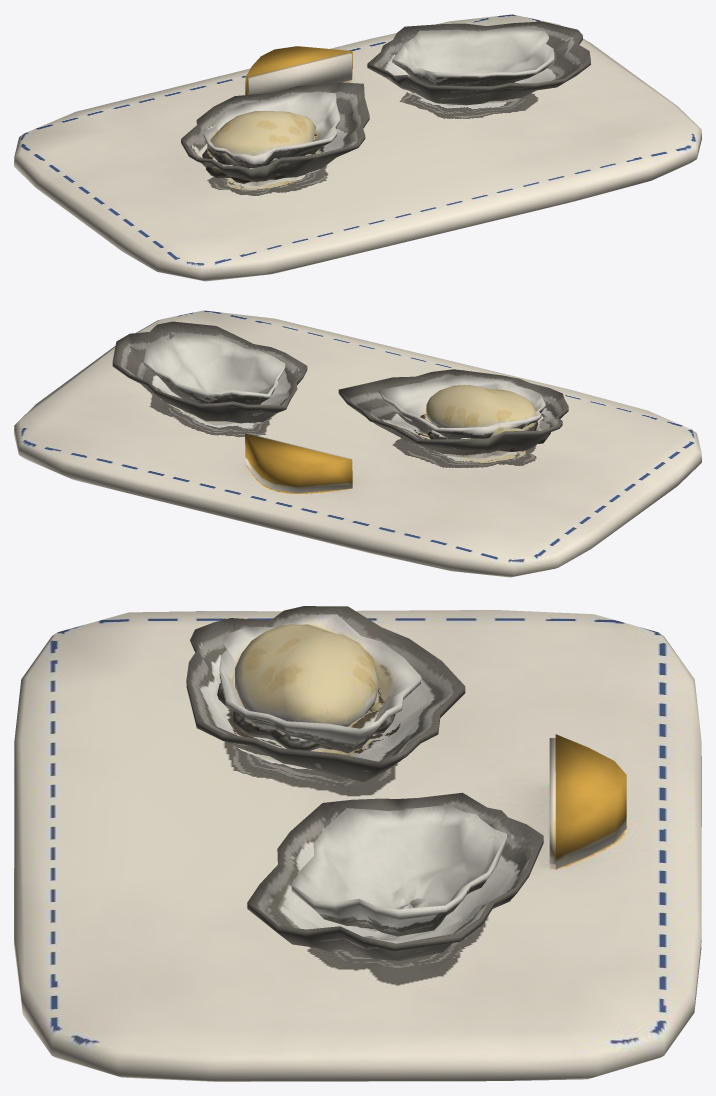
Rendered from kaki_b1.glb.
3 renders of one model, top to bottom at view 1: azimuth 30°, elevation 25°; view 2: azimuth 150°, elevation 25°; view 3: azimuth 270°, elevation 25°, orthographic. The views are drawn at different scales.
Parts seen in each view (by area): view 1: prop_kaki_b1_felt; view 2: prop_kaki_b1_felt; view 3: prop_kaki_b1_felt.
Boxes of the visible parts, x1,y1,x2,y2 form: prop_kaki_b1_felt: (14,14,701,281); prop_kaki_b1_felt: (14,310,701,577); prop_kaki_b1_felt: (14,606,701,1081).
Bounding box in the file's own units: 0.3752 × 0.0521 × 0.2401.
Materials: 1 (1 with a texture image).
